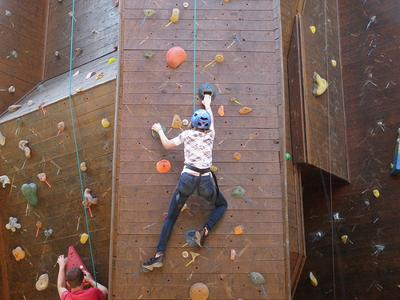person: (142, 94, 229, 272)
